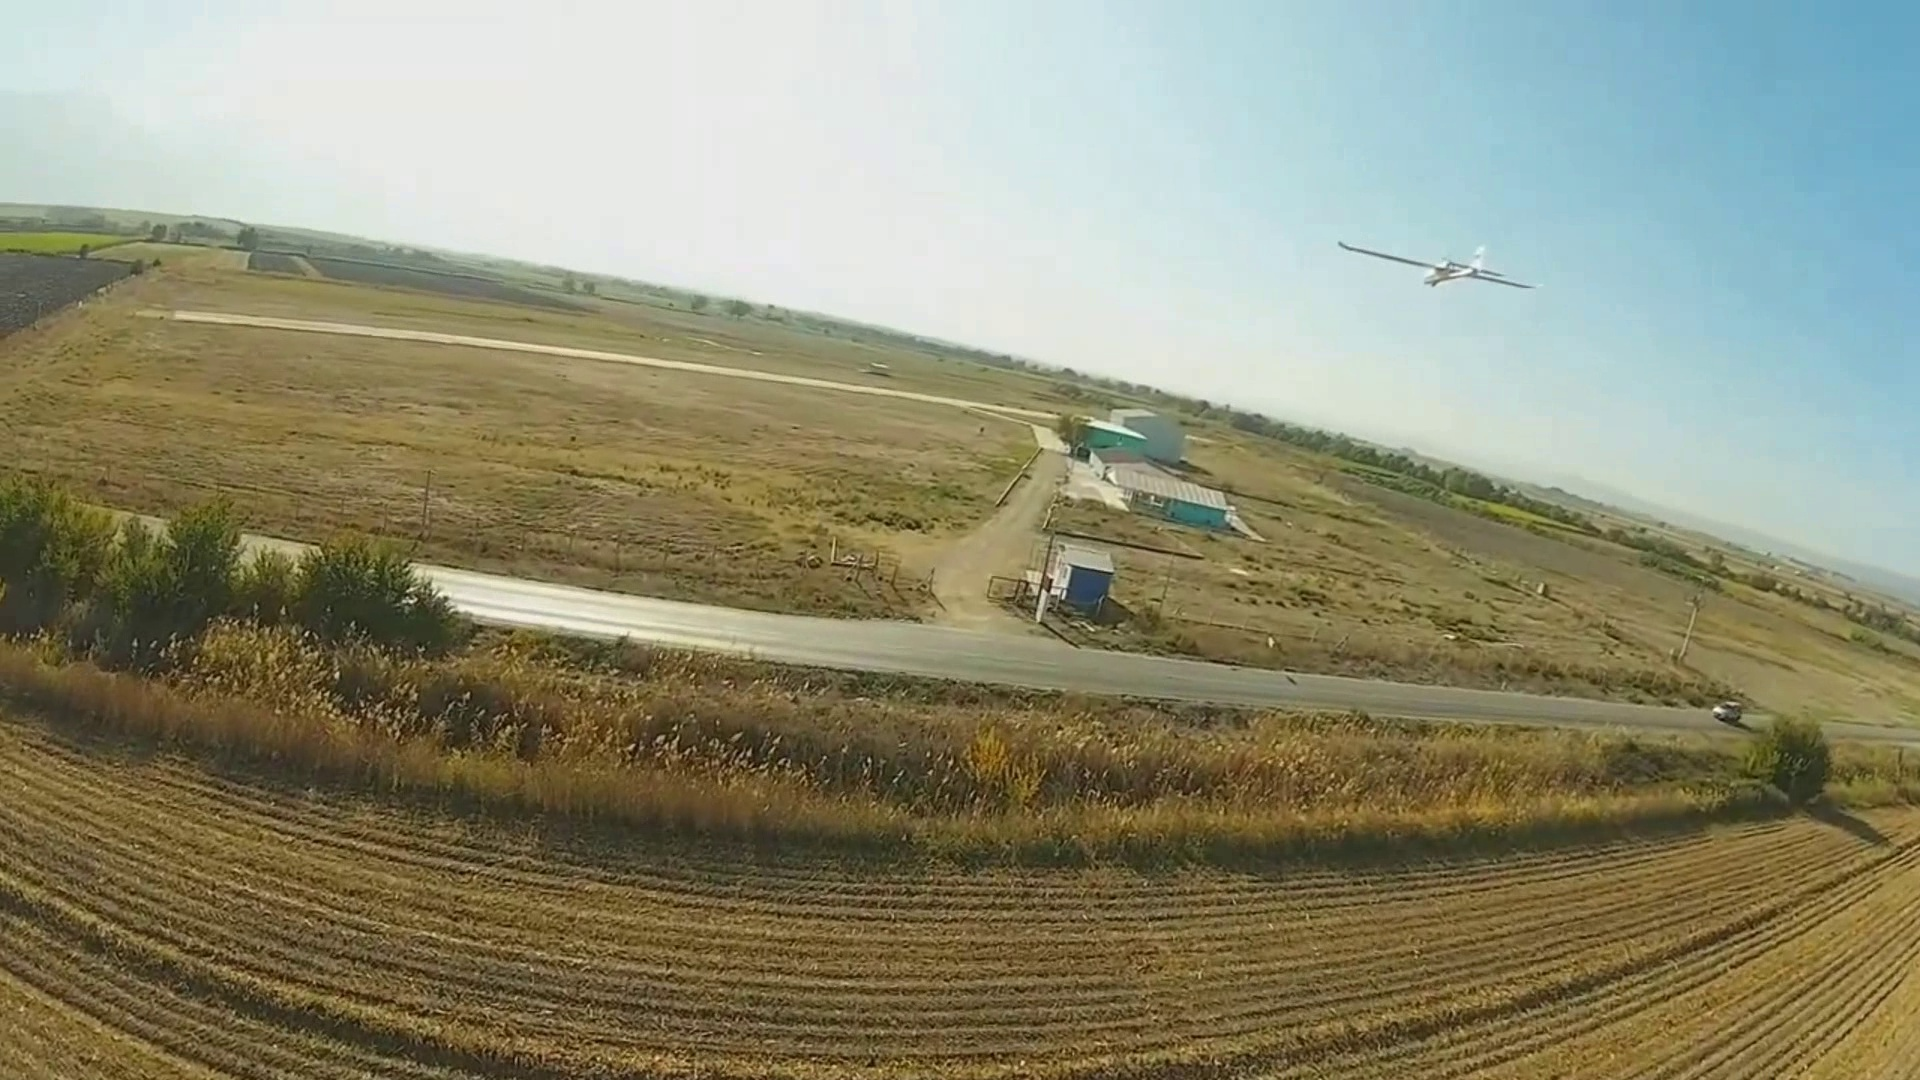airplane: (1335, 233, 1535, 291)
